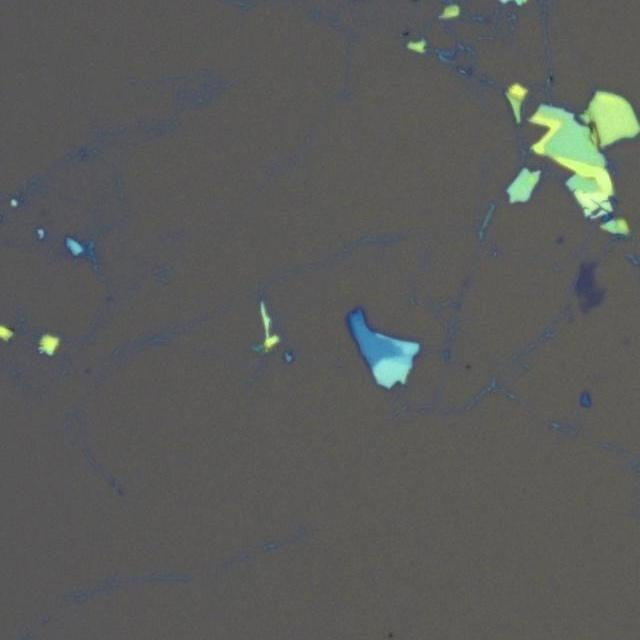monolayer-eWW4: (573, 260, 605, 313)
